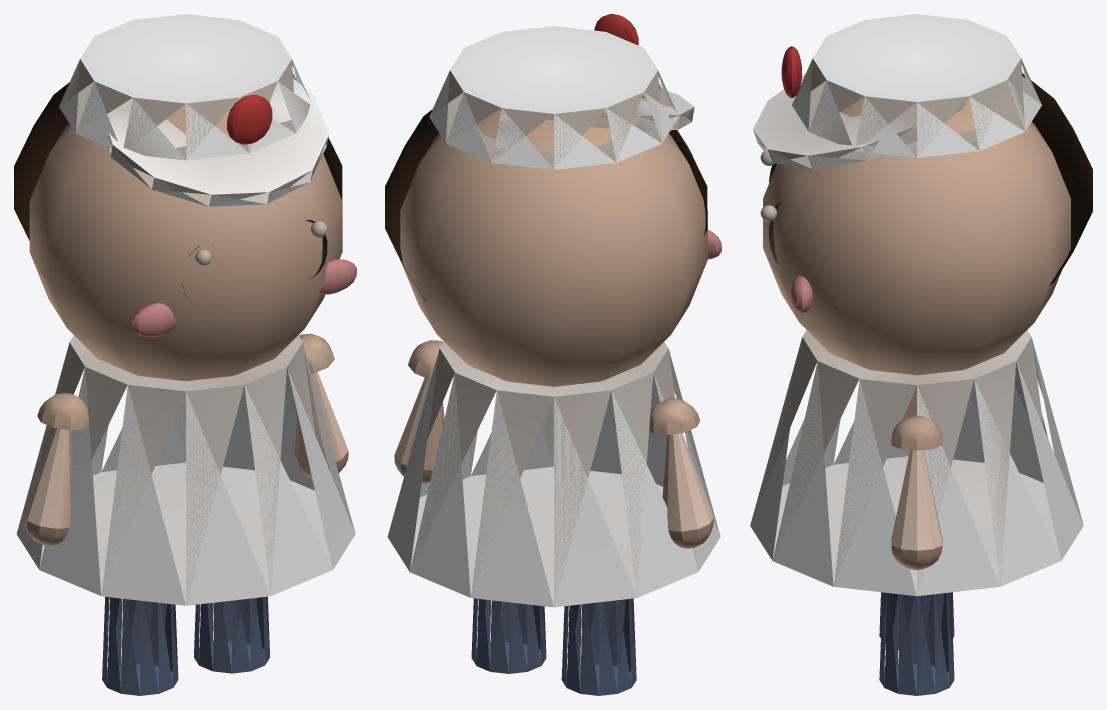
3 renders of one model, left to right at view 1: azimuth 30°, elevation 25°; view 2: azimuth 150°, elevation 25°; view 3: azimuth 270°, elevation 25°, orthographic.
Visible parts, largest first — view 1: pet_pe05c9c6e; view 2: pet_pe05c9c6e; view 3: pet_pe05c9c6e.
Part boxes in pixels (<box>): pet_pe05c9c6e: <box>14,14,356,695</box>; pet_pe05c9c6e: <box>385,14,721,695</box>; pet_pe05c9c6e: <box>750,14,1092,695</box>.
Bounding box in the file's own units: 0.3464 × 0.645 × 0.3287.
